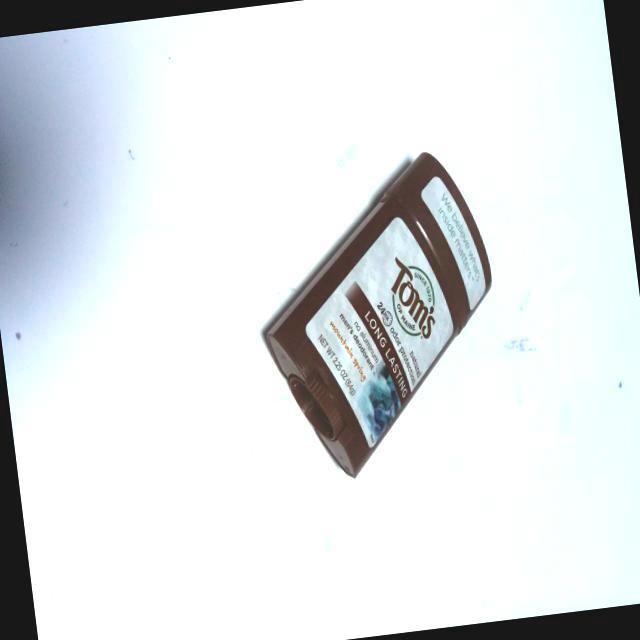plastic: (240, 142, 525, 506)
